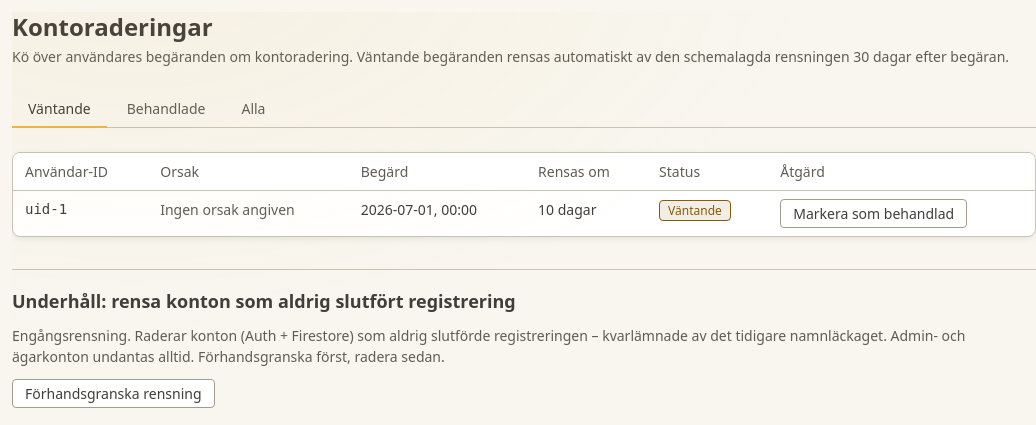
AccountDeletionsPage error propagation › shows the success banner when the mark and its reload both succeed
Click the button "Markera som behandlad": (874, 214) [780,199,967,228]
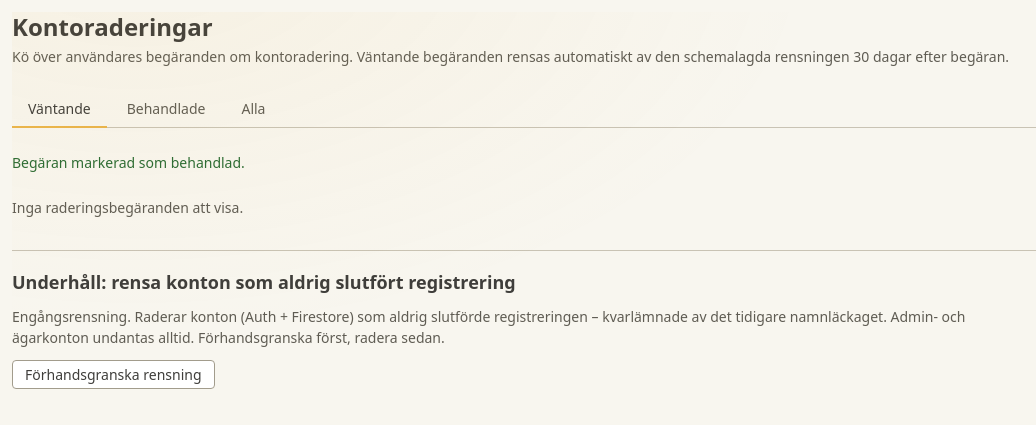
Result: the text "Begäran markerad som behandlad." is shown at [12,153,245,172]
